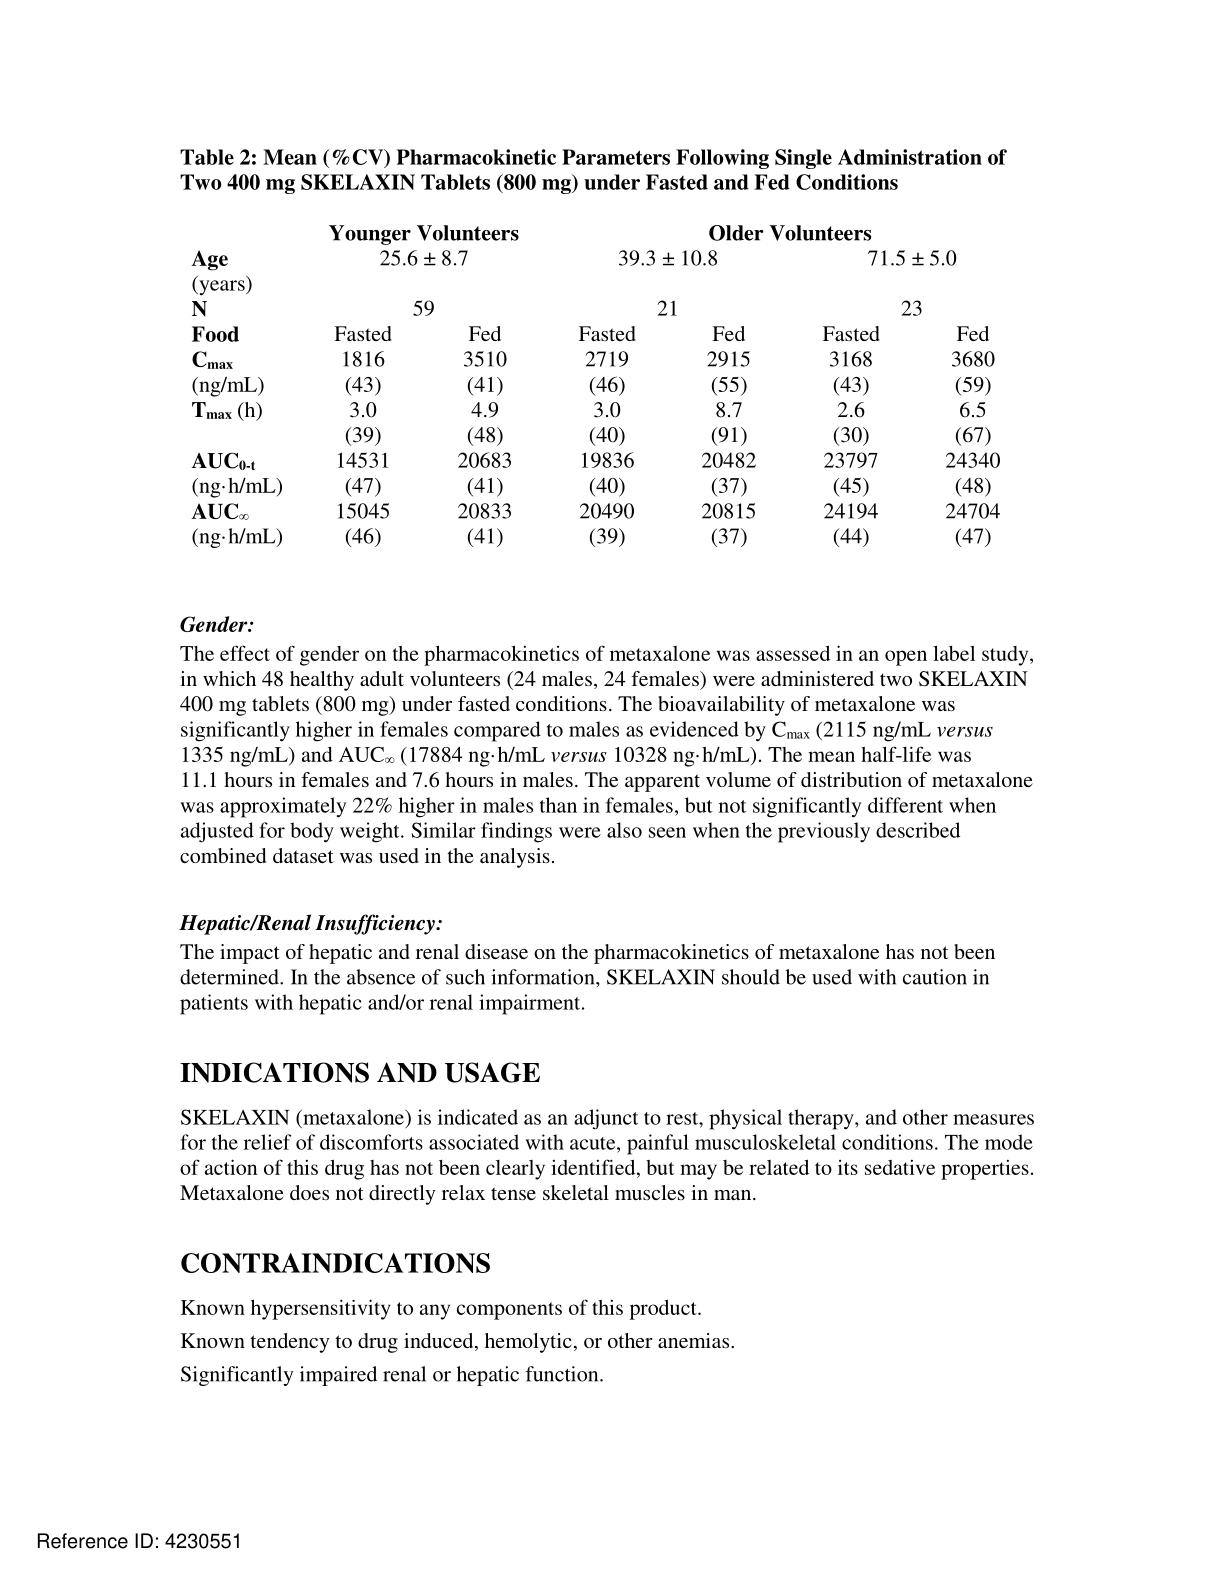nolines: (190, 221, 1003, 552)
